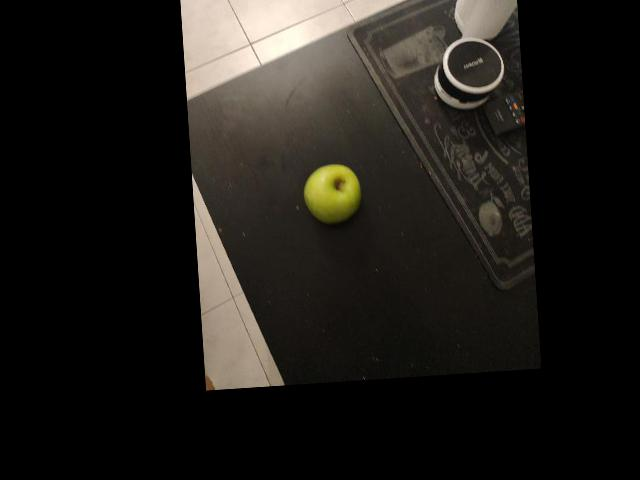apple: (210, 40, 307, 118)
